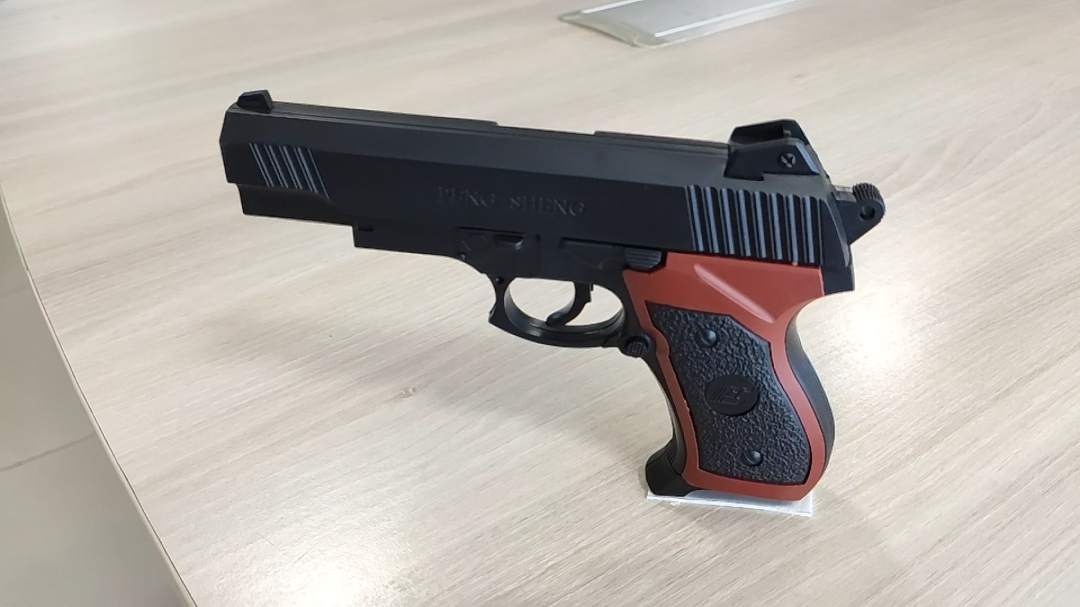gun: (217, 87, 886, 504)
